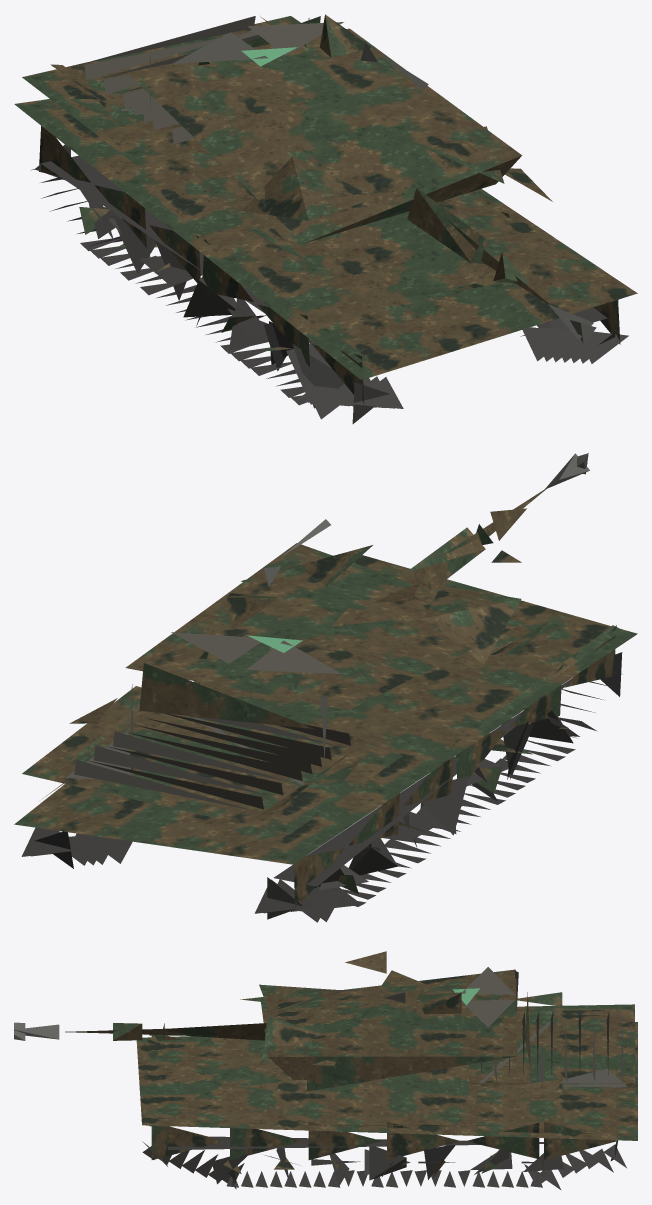
File: mbt_e4_tw_m1a2t_LOD2.glb
The picture shows the model from 3 angles, top to bottom: view 1: azimuth 30°, elevation 25°; view 2: azimuth 150°, elevation 25°; view 3: azimuth 270°, elevation 25°; orthographic projection. The views are drawn at different scales.
Visible parts, largest first — view 1: mbt_e4_tw_m1a2t_LOD2_body, mbt_e4_tw_m1a2t_LOD2_track, mbt_e4_tw_m1a2t_LOD2_deck, mbt_e4_tw_m1a2t_LOD2_gun; view 2: mbt_e4_tw_m1a2t_LOD2_body, mbt_e4_tw_m1a2t_LOD2_track, mbt_e4_tw_m1a2t_LOD2_deck, mbt_e4_tw_m1a2t_LOD2_gun; view 3: mbt_e4_tw_m1a2t_LOD2_body, mbt_e4_tw_m1a2t_LOD2_track, mbt_e4_tw_m1a2t_LOD2_deck, mbt_e4_tw_m1a2t_LOD2_gun.
Boxes of the visible parts, x1,y1,x2,y2 form: mbt_e4_tw_m1a2t_LOD2_body: (14, 14, 637, 406); mbt_e4_tw_m1a2t_LOD2_track: (31, 145, 628, 423); mbt_e4_tw_m1a2t_LOD2_deck: (78, 16, 343, 144); mbt_e4_tw_m1a2t_LOD2_gun: (149, 18, 596, 343); mbt_e4_tw_m1a2t_LOD2_body: (14, 485, 637, 911); mbt_e4_tw_m1a2t_LOD2_track: (21, 652, 622, 922); mbt_e4_tw_m1a2t_LOD2_deck: (65, 632, 350, 809); mbt_e4_tw_m1a2t_LOD2_gun: (130, 453, 589, 760); mbt_e4_tw_m1a2t_LOD2_body: (65, 951, 637, 1176); mbt_e4_tw_m1a2t_LOD2_track: (142, 1136, 626, 1190); mbt_e4_tw_m1a2t_LOD2_deck: (461, 967, 627, 1087); mbt_e4_tw_m1a2t_LOD2_gun: (14, 971, 544, 1082).
Size of the model in its own units: 3.66 by 3 by 9.77.
6 materials, 1 textured.
